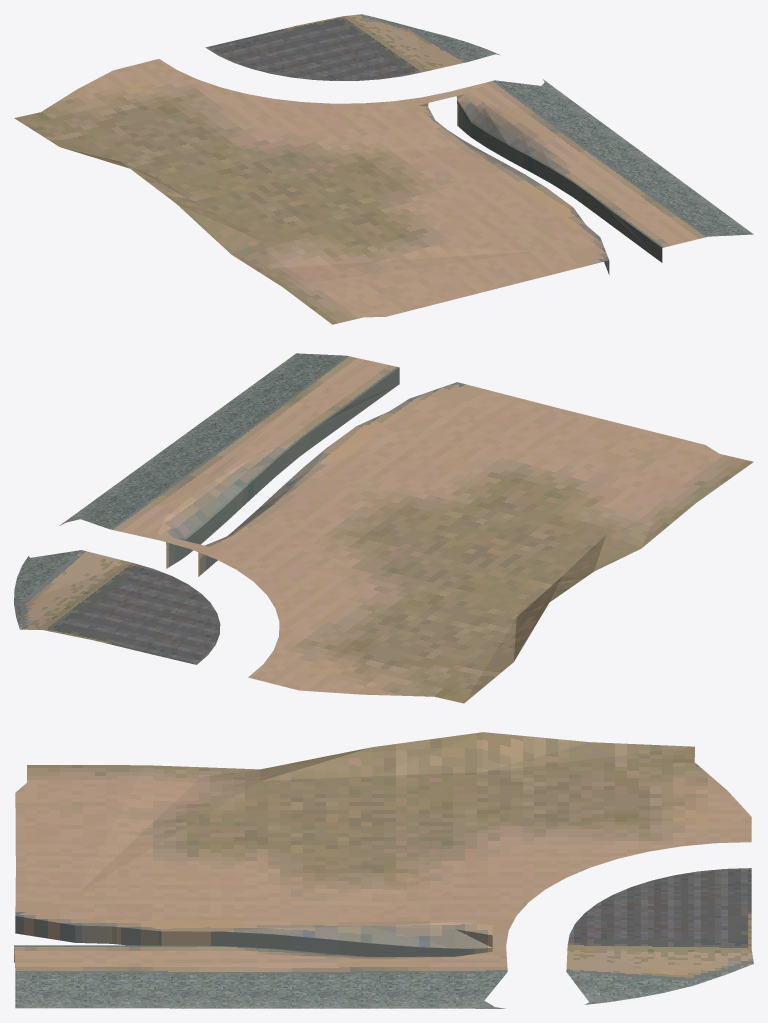
Rendered from lodasnedge14.obj.
The picture shows the model from 3 angles, top to bottom: view 1: azimuth 30°, elevation 25°; view 2: azimuth 150°, elevation 25°; view 3: azimuth 270°, elevation 25°; orthographic projection. The views are drawn at different scales.
Visible parts, largest first — view 1: lodasNedge14; view 2: lodasNedge14; view 3: lodasNedge14.
Boxes of the visible parts, <box> form: lodasNedge14: <box>14,14,753,324</box>; lodasNedge14: <box>14,353,753,703</box>; lodasNedge14: <box>14,732,753,1008</box>.
Bounding box in the file's own units: 194 × 20.9 × 241.
Materials: 3 (3 with a texture image).
